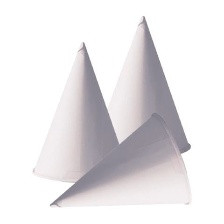paper_cup: (25, 34, 137, 186), (39, 108, 197, 211), (92, 9, 193, 163)
